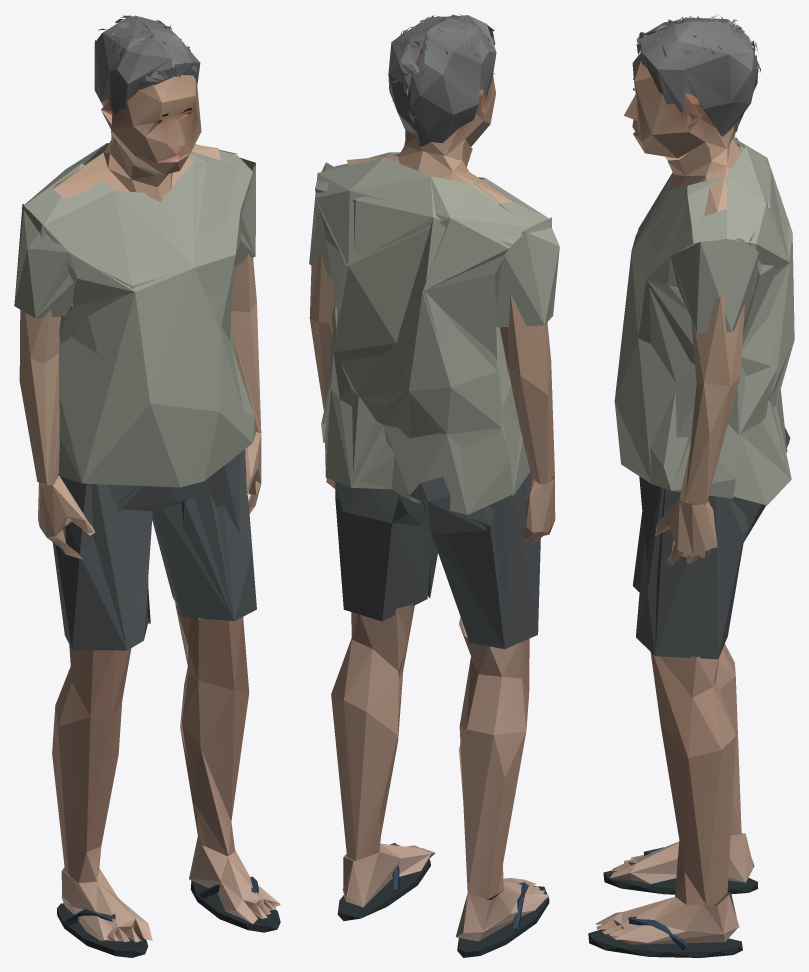
Rendered from person-11-far.glb.
3 views of the same model, side by side, from view 1: azimuth 30°, elevation 25°; view 2: azimuth 150°, elevation 25°; view 3: azimuth 270°, elevation 25° (orthographic).
Visible parts, largest first — view 1: person-11 far; view 2: person-11 far; view 3: person-11 far.
Boxes of the visible parts, left/top/right/bottom form: person-11 far: left=14, top=15, right=280, bottom=957; person-11 far: left=309, top=14, right=559, bottom=957; person-11 far: left=588, top=15, right=794, bottom=957.
Bounding box in the file's own units: 0.4667 × 1.69 × 0.3529.
